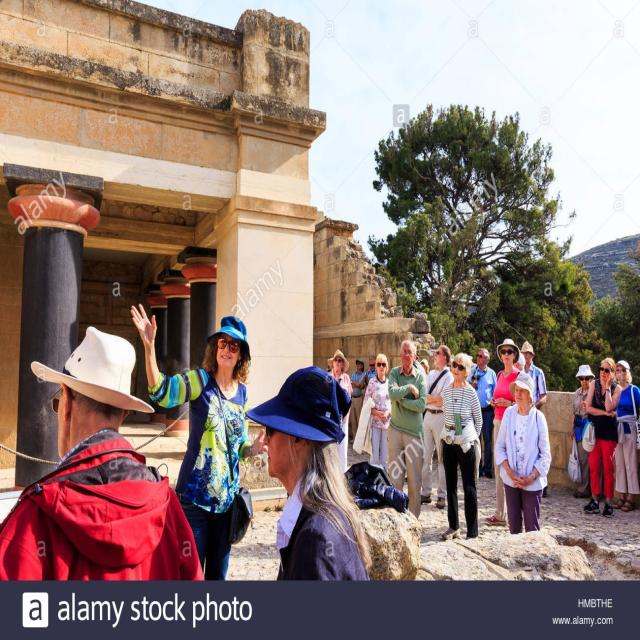body: (0, 324, 205, 581), (130, 302, 268, 580), (244, 363, 376, 581), (493, 370, 553, 536), (436, 350, 484, 546), (386, 338, 428, 523), (484, 337, 523, 528), (581, 356, 623, 520), (419, 343, 455, 510), (608, 358, 640, 512), (465, 346, 498, 479), (359, 352, 393, 475), (569, 363, 595, 500), (326, 349, 354, 474), (520, 340, 548, 410), (348, 357, 365, 444), (358, 354, 378, 390), (412, 355, 428, 394), (512, 350, 526, 374), (419, 357, 431, 376), (445, 357, 452, 373)
